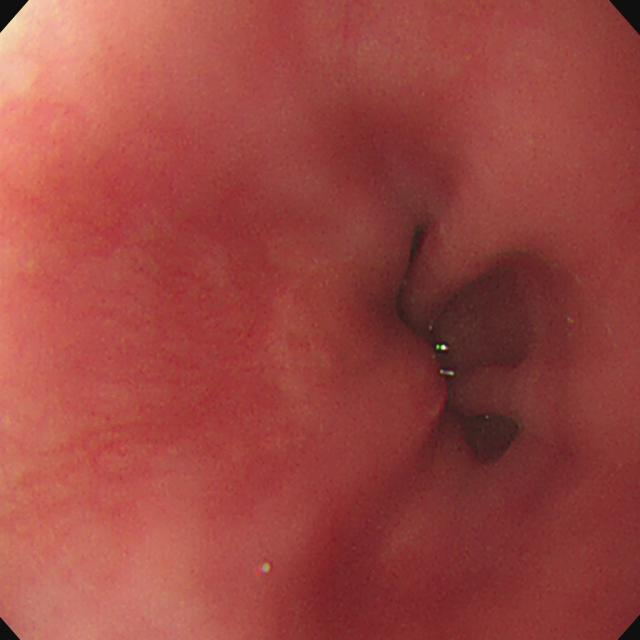I: (355, 170, 556, 488)
U: (437, 345, 449, 353)
